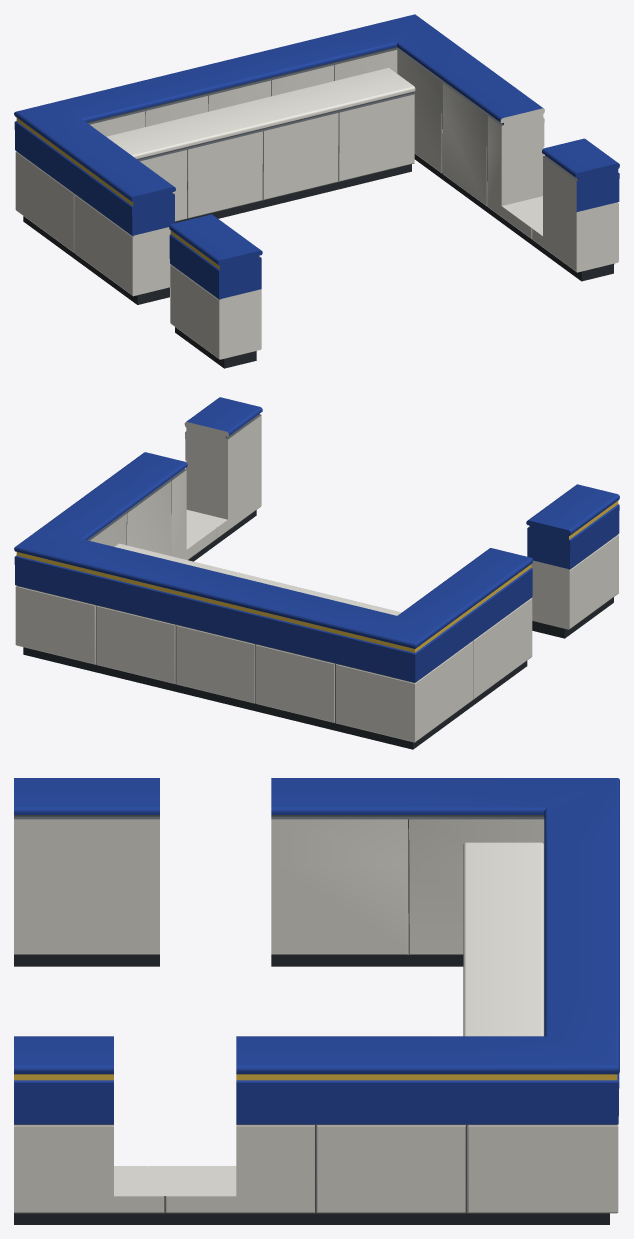
The model's file is checkout-counter-usquare-rounded.glb.
The picture shows the model from 3 angles, top to bottom: view 1: azimuth 30°, elevation 25°; view 2: azimuth 150°, elevation 25°; view 3: azimuth 270°, elevation 25°; orthographic projection. The views are drawn at different scales.
Parts seen in each view (by area): view 1: usquare-surround-0.001, usquare-work-cabinet.001, usquare-surround-1.001; view 2: usquare-surround-0.001, usquare-surround-1.001, usquare-work-cabinet.001; view 3: usquare-surround-0.001, usquare-surround-1.001, usquare-work-cabinet.001.
Part boxes in pixels (x1,y1,x2,y2): usquare-surround-0.001: (14, 14, 619, 304); usquare-work-cabinet.001: (106, 67, 415, 222); usquare-surround-1.001: (169, 214, 262, 368); usquare-surround-0.001: (14, 397, 533, 749); usquare-surround-1.001: (526, 484, 619, 638); usquare-work-cabinet.001: (115, 543, 401, 615); usquare-surround-0.001: (14, 778, 619, 1224); usquare-surround-1.001: (14, 778, 159, 966); usquare-work-cabinet.001: (463, 842, 544, 1036).
Size of the model in its own units: 13.6 by 3.54 by 11.99.
